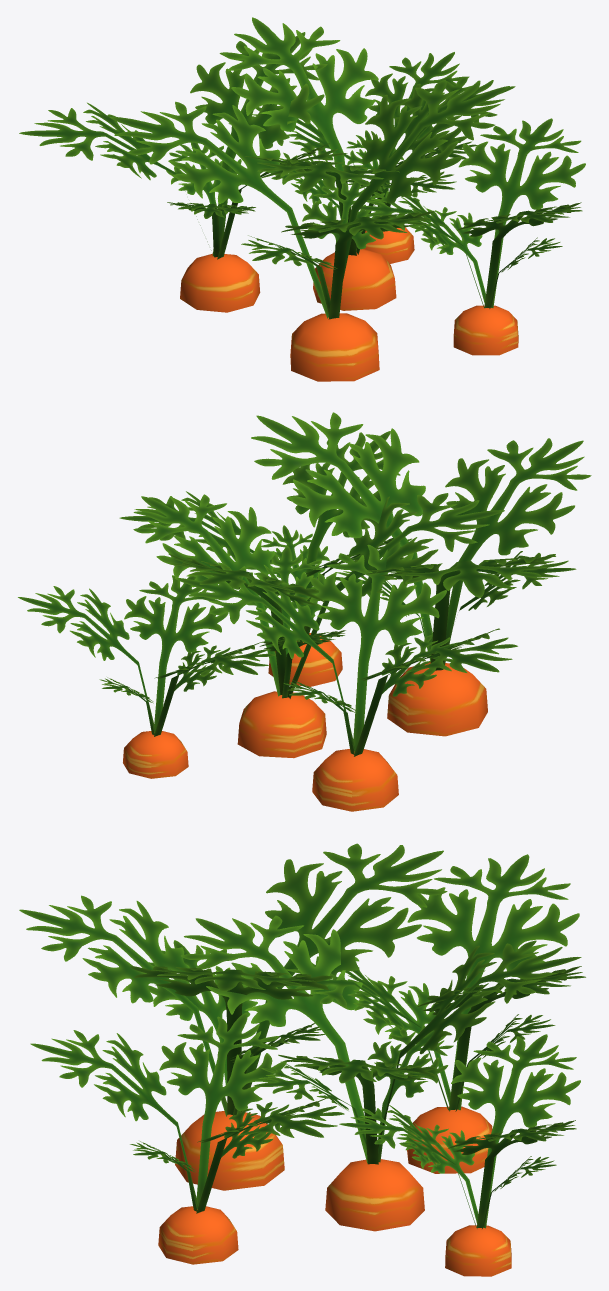
File: carrot.obj
The picture shows the model from 3 angles, top to bottom: view 1: azimuth 30°, elevation 25°; view 2: azimuth 150°, elevation 25°; view 3: azimuth 270°, elevation 25°; orthographic projection. The views are drawn at different scales.
Parts seen in each view (by area): view 1: Carrot_Plants; view 2: Carrot_Plants; view 3: Carrot_Plants.
Part boxes in pixels (left/top/right/bottom): Carrot_Plants: left=19, top=17, right=585, bottom=381; Carrot_Plants: left=18, top=412, right=591, bottom=811; Carrot_Plants: left=19, top=843, right=585, bottom=1276.
Bounding box in the file's own units: 1.43 × 0.7381 × 1.38.
